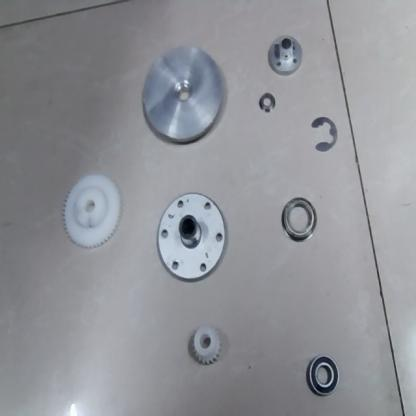FOD: (143, 45, 228, 147), (155, 192, 229, 286), (64, 170, 122, 254), (186, 317, 228, 370), (280, 194, 317, 248), (266, 31, 307, 75), (303, 353, 342, 394), (309, 113, 340, 151), (255, 90, 275, 118)
